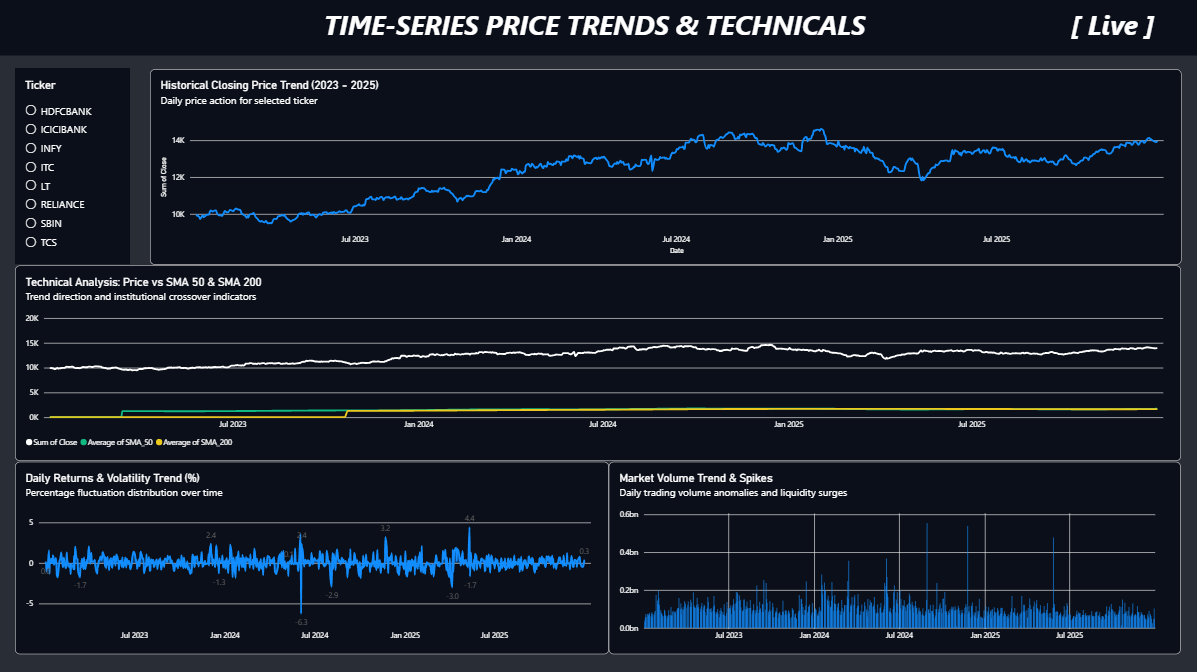

What the dashboard file says about the page in this screenshot:
{"tool":"powerbi","page":{"name":"Time-Series Price Trends & Technicals","canvas":[1920,1080],"ordinal":1},"visuals":[{"type":"shape","box":[0,0,1920.1,92.3],"z":0},{"type":"textbox","box":[0,12.7,1920.1,79.6],"z":1000},{"type":"lineChart","title":"Historical Closing Price Trend (2023 - 2025)","fields":{"Category":["Cleaned_Stock_Historical_Data.Date"],"Y":["Sum(Cleaned_Stock_Historical_Data.Close)"]},"box":[240.7,114,1650.4,313.1],"z":3000},{"type":"lineChart","title":"Technical Analysis: Price vs SMA 50 & SMA 200","fields":{"Category":["Cleaned_Stock_Historical_Data.Date"],"Y":["Sum(Cleaned_Stock_Historical_Data.Close)","Avg(Cleaned_Stock_Historical_Data.SMA_50)","Avg(Cleaned_Stock_Historical_Data.SMA_200)"]},"box":[24,428,1865.8,313.1],"z":4000},{"type":"areaChart","title":"Daily Returns & Volatility Trend (%)","fields":{"Category":["Cleaned_Stock_Historical_Data.Date"],"Y":["Avg(Cleaned_Stock_Historical_Data.Daily_Return_Pct)"]},"box":[24,742,950,308],"z":5000},{"type":"clusteredColumnChart","title":"Market Volume Trend & Spikes","fields":{"Category":["Cleaned_Stock_Historical_Data.Date"],"Y":["Sum(Cleaned_Stock_Historical_Data.Volume)"]},"box":[974,742,915,308],"z":6000},{"type":"shape","box":[24,112,184,314],"z":7000},{"type":"listSlicer","fields":{"Values":["Cleaned_Stock_Historical_Data.Ticker"]},"box":[24,114,184,312],"z":7001}]}

Visuals, with their boxes in screenshot pixels (x1, y1, x2, y2), scaled from the page's 1920x1080 canvas onto the 1197x672 screenshot:
shape: [x1=0, y1=0, x2=1196, y2=57]
textbox: [x1=0, y1=8, x2=1196, y2=57]
"Historical Closing Price Trend (2023 - 2025)" lineChart: [x1=150, y1=71, x2=1179, y2=266]
"Technical Analysis: Price vs SMA 50 & SMA 200" lineChart: [x1=15, y1=266, x2=1178, y2=461]
"Daily Returns & Volatility Trend (%)" areaChart: [x1=15, y1=462, x2=607, y2=653]
"Market Volume Trend & Spikes" clusteredColumnChart: [x1=607, y1=462, x2=1178, y2=653]
shape: [x1=15, y1=70, x2=130, y2=265]
listSlicer - Cleaned_Stock_Historical_Data.Ticker: [x1=15, y1=71, x2=130, y2=265]
